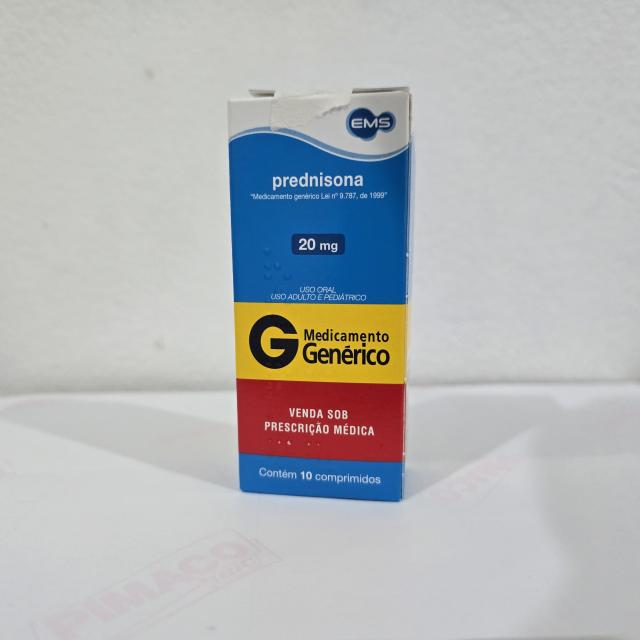prednisona: (222, 81, 418, 507)
